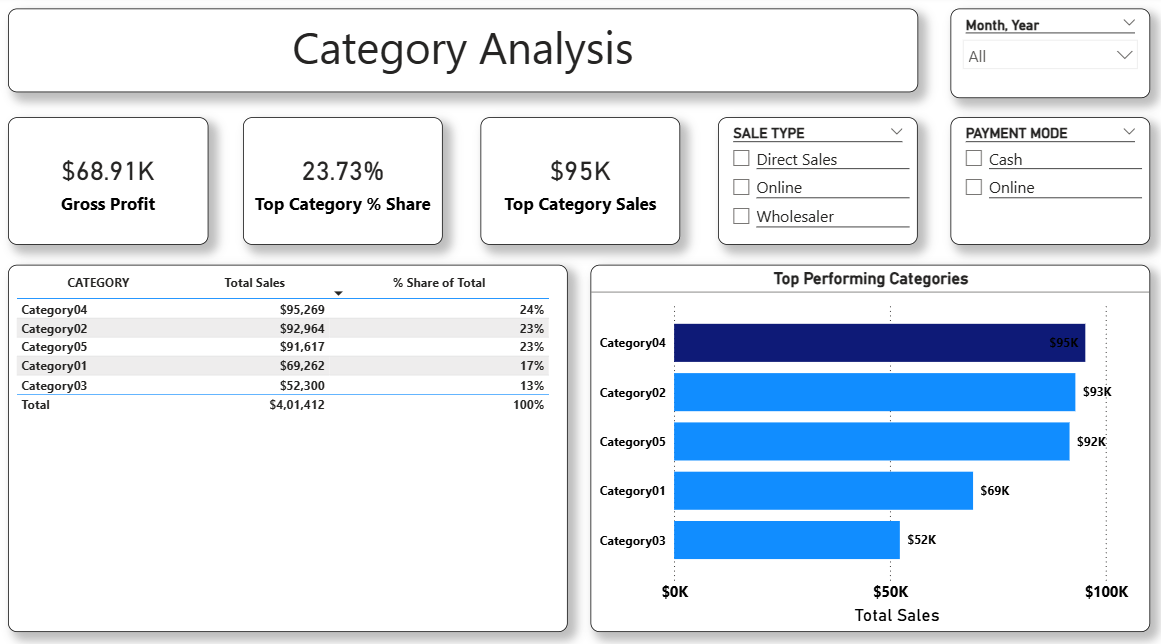

This screenshot's page, from the dashboard's own definition file:
{"tool":"powerbi","page":{"name":"Category Analysis","canvas":[1280,720],"ordinal":3},"visuals":[{"type":"clusteredBarChart","title":"Top Performing Categories","fields":{"Category":["MasterData.CATEGORY"],"Y":["KPI Measures.Total Sales"]},"box":[650.4,295,614.8,403.4],"z":0},{"type":"slicer","fields":{"Values":["DateTable.Month","DateTable.Year"]},"box":[1045.6,13.7,219.6,98.8],"z":1000},{"type":"card","fields":{"Values":["KPI Measures.Top Category Sales"]},"box":[529.7,133.1,219.6,140],"z":2000},{"type":"card","fields":{"Values":["KPI Measures.Top Category % Share"]},"box":[269,133.1,219.6,140],"z":3000},{"type":"card","fields":{"Values":["KPI Measures.Gross Profit"]},"box":[11,133.1,220,140],"z":4000},{"type":"tableEx","fields":{"Values":["MasterData.CATEGORY","KPI Measures.Total Sales","KPI Measures.% Share of Total"]},"box":[11,295,614.8,403.4],"z":5000},{"type":"slicer","fields":{"Values":["InputData.PAYMENT MODE"]},"box":[1045.6,133.1,219.6,140],"z":6000},{"type":"slicer","fields":{"Values":["InputData.SALE TYPE"]},"box":[790.4,133.1,219.6,140],"z":7000},{"type":"textbox","box":[11,13.7,999,91.9],"z":8000}]}

Visuals, with their boxes in screenshot pixels (x1, y1, x2, y2), scaled from the page's 1280x720 canvas onto the 1161x644 screenshot:
"Top Performing Categories" clusteredBarChart: select_region(590, 264, 1148, 625)
slicer - DateTable.Month x DateTable.Year: select_region(948, 12, 1148, 101)
card - KPI Measures.Top Category Sales: select_region(480, 119, 680, 244)
card - KPI Measures.Top Category % Share: select_region(244, 119, 443, 244)
card - KPI Measures.Gross Profit: select_region(10, 119, 210, 244)
tableEx - MasterData.CATEGORY x KPI Measures.Total Sales: select_region(10, 264, 568, 625)
slicer - InputData.PAYMENT MODE: select_region(948, 119, 1148, 244)
slicer - InputData.SALE TYPE: select_region(717, 119, 916, 244)
textbox: select_region(10, 12, 916, 94)
